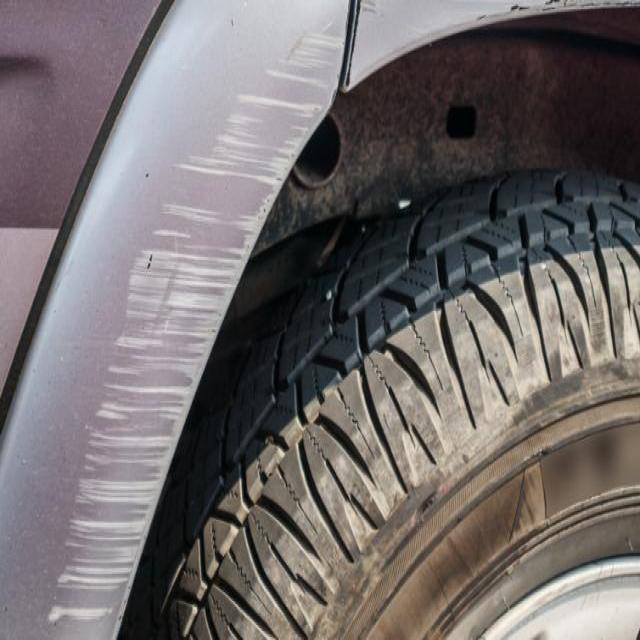Dent: (187, 99, 308, 200), (530, 481, 638, 556), (133, 249, 188, 377), (602, 245, 638, 360), (107, 564, 150, 630), (396, 404, 429, 485), (493, 267, 524, 335), (506, 467, 533, 544), (284, 20, 329, 64), (290, 562, 327, 607), (238, 90, 315, 111), (575, 250, 598, 312), (44, 602, 108, 624), (351, 409, 378, 461), (497, 589, 512, 617), (357, 0, 380, 15), (617, 179, 629, 200), (508, 3, 532, 12), (624, 533, 633, 550), (146, 251, 151, 266), (2, 602, 7, 612), (229, 18, 234, 26), (144, 170, 149, 176)
